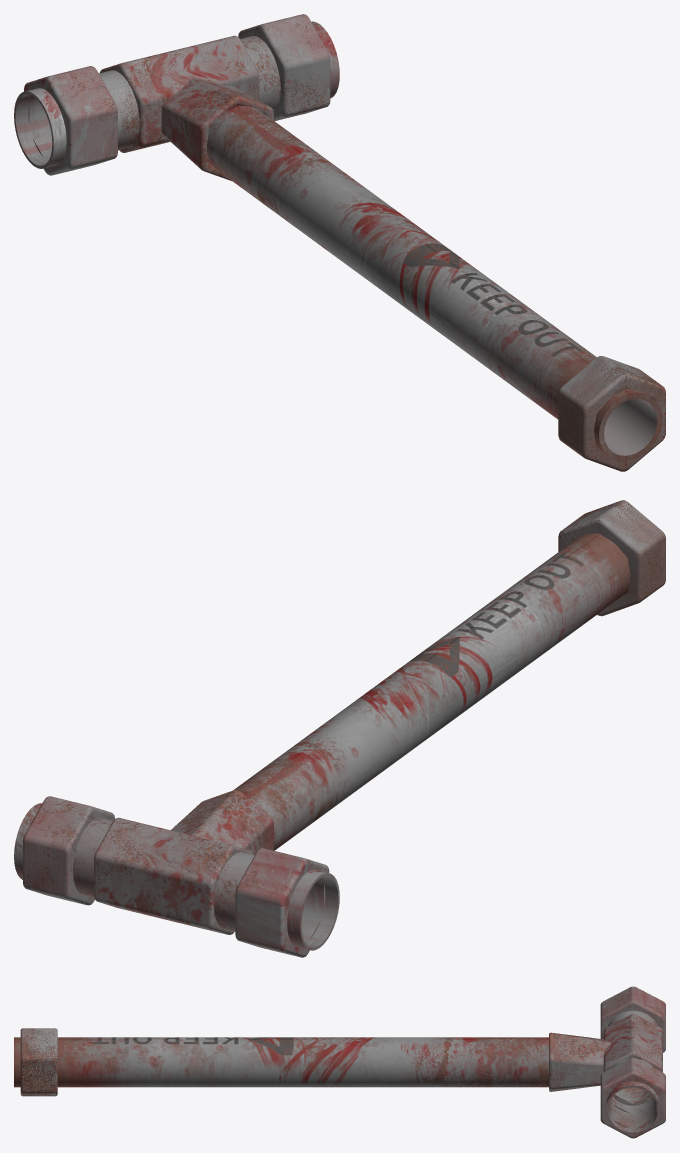
The model's file is dirty_tube__melee_weapon.glb.
3 views of the same model, one above another, from view 1: azimuth 30°, elevation 25°; view 2: azimuth 150°, elevation 25°; view 3: azimuth 270°, elevation 25° (orthographic). The views are drawn at different scales.
Visible parts, largest first — view 1: Object_3, Object_2; view 2: Object_3, Object_2; view 3: Object_3, Object_2.
Boxes of the visible parts, left/top/right/bottom form: Object_3: left=14, top=14, right=662, bottom=461; Object_2: left=558, top=356, right=665, bottom=471; Object_3: left=14, top=533, right=630, bottom=957; Object_2: left=558, top=500, right=665, bottom=616; Object_3: left=14, top=986, right=665, bottom=1138; Object_2: left=20, top=1028, right=57, bottom=1096.
Bounding box in the file's own units: 4.38 × 1.44 × 12.68.
Materials: 2 (2 with a texture image).
